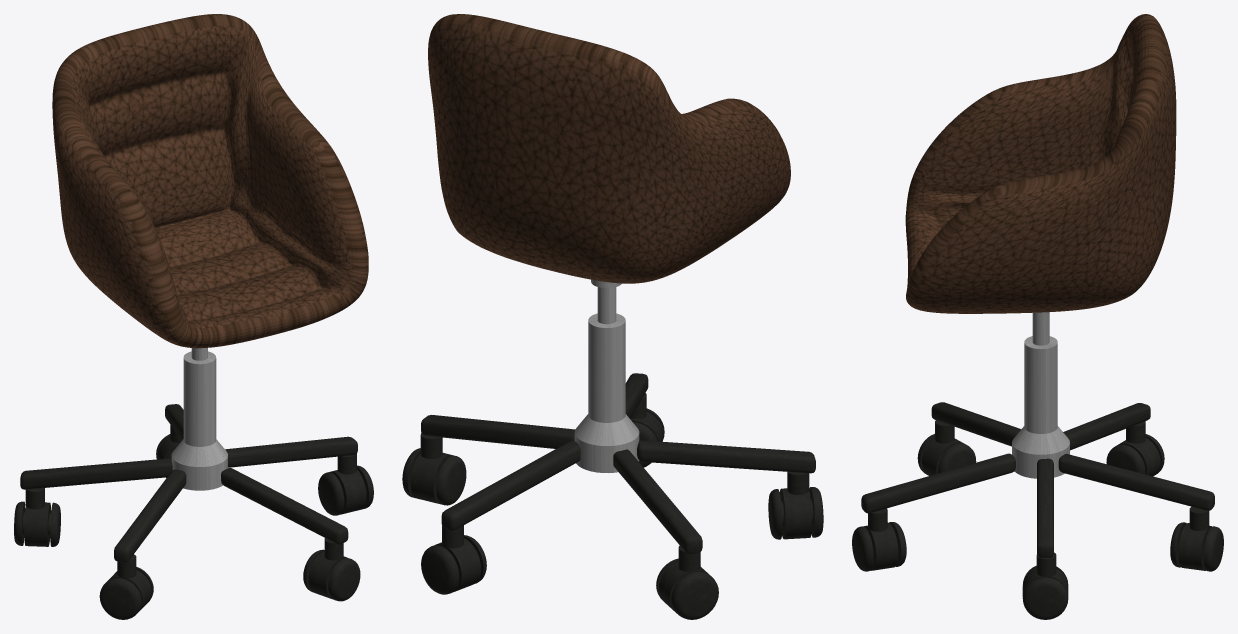
The model's file is scaun.fbx.
3 renders of one model, left to right at view 1: azimuth 30°, elevation 25°; view 2: azimuth 150°, elevation 25°; view 3: azimuth 270°, elevation 25°, orthographic. The views are drawn at different scales.
Visible parts, largest first — view 1: Cube.011; view 2: Cube.011; view 3: Cube.011.
Part boxes in pixels (x1,y1,x2,y2): Cube.011: (14,14,373,619); Cube.011: (402,14,823,619); Cube.011: (852,14,1223,619).
Size of the model in its own units: 288 by 427 by 290.
Materials: 3 (3 with a texture image).
